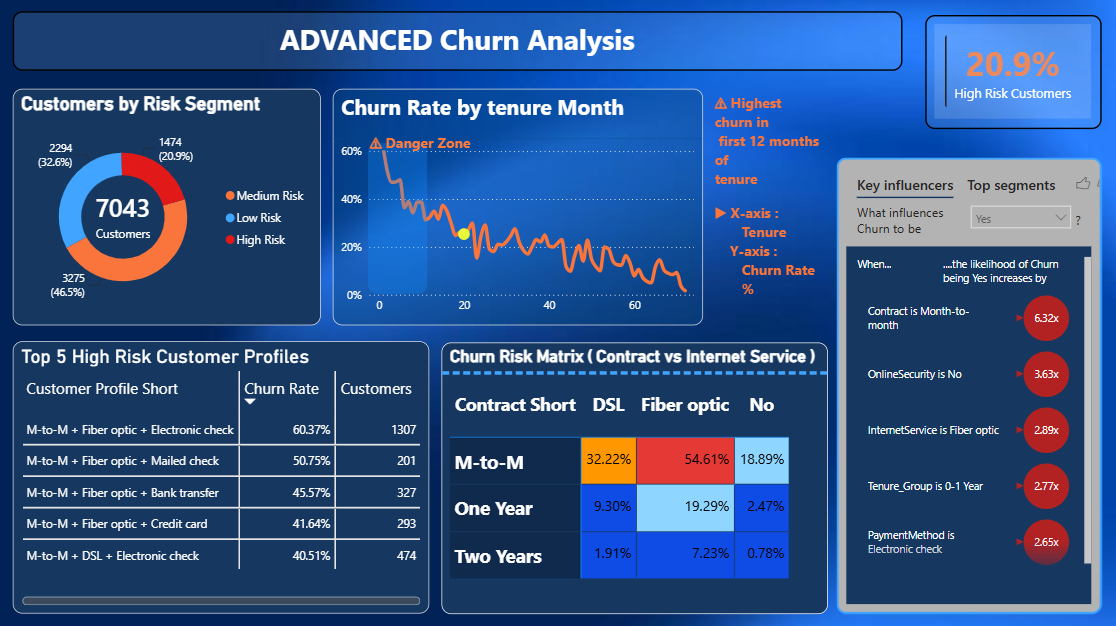

What the dashboard file says about the page in this screenshot:
{"tool":"powerbi","page":{"name":"Advanced churn insights","canvas":[1280,720],"ordinal":1},"visuals":[{"type":"pivotTable","title":"Churn Risk Matrix ( Contract vs Internet Service )","fields":{"Rows":["customer_churned_cleaned.Contract Short"],"Values":["customer_churned_cleaned.Churn Rate"],"Columns":["customer_churned_cleaned.InternetService"]},"box":[505.7,391.4,441.4,310],"z":0},{"type":"tableEx","title":"Top 5 High Risk Customer Profiles","fields":{"Values":["customer_churned_cleaned.Customer Profile Short","customer_churned_cleaned.Churn Rate","customer_churned_cleaned.Customers"]},"box":[15.7,390,475.7,311.4],"z":2000},{"type":"keyDriversVisual","fields":{"Target":["customer_churned_cleaned.Churn"],"ExplainBy":["customer_churned_cleaned.Contract","customer_churned_cleaned.InternetService","customer_churned_cleaned.PaymentMethod","customer_churned_cleaned.Tenure_Group","customer_churned_cleaned.OnlineSecurity"]},"box":[957.1,180,302.9,521.4],"z":3000},{"type":"donutChart","fields":{"Category":["customer_churned_cleaned.Risk Segment"],"Y":["customer_churned_cleaned.Customers"]},"box":[15,101.7,351.7,270],"z":4000},{"type":"cardVisual","fields":{"Data":["customer_churned_cleaned.Customers"]},"box":[81.7,200,123.3,93.3],"z":5000},{"type":"cardVisual","fields":{"Data":["customer_churned_cleaned.High Risk Customers"]},"box":[1058.3,16.7,201.7,130],"z":5001},{"type":"lineChart","title":"Churn Rate by tenure Month","fields":{"Category":["customer_churned_cleaned.tenure"],"Y":["customer_churned_cleaned.Churn Rate"]},"box":[381.7,101.7,423.3,270],"z":5002},{"type":"shape","box":[421.7,163.3,68.3,173.3],"z":5004},{"type":"textbox","box":[418.3,146.7,145,33.3],"z":5005},{"type":"textbox","box":[813.3,101.7,133.3,270],"z":5006},{"type":"textbox","box":[15,13.3,1016.7,68.3],"z":5007}]}

Visuals, with their boxes in screenshot pixels (x1, y1, x2, y2), scaled from the page's 1280x720 canvas onto the 1116x626 screenshot:
"Churn Risk Matrix ( Contract vs Internet Service )" pivotTable: l=441, t=340, r=826, b=610
"Top 5 High Risk Customer Profiles" tableEx: l=14, t=339, r=428, b=610
keyDriversVisual - customer_churned_cleaned.Churn x customer_churned_cleaned.Contract: l=834, t=156, r=1099, b=610
donutChart - customer_churned_cleaned.Risk Segment x customer_churned_cleaned.Customers: l=13, t=88, r=320, b=323
cardVisual - customer_churned_cleaned.Customers: l=71, t=174, r=179, b=255
cardVisual - customer_churned_cleaned.High Risk Customers: l=923, t=15, r=1099, b=128
"Churn Rate by tenure Month" lineChart: l=333, t=88, r=702, b=323
shape: l=368, t=142, r=427, b=293
textbox: l=365, t=128, r=491, b=156
textbox: l=709, t=88, r=825, b=323
textbox: l=13, t=12, r=900, b=71
